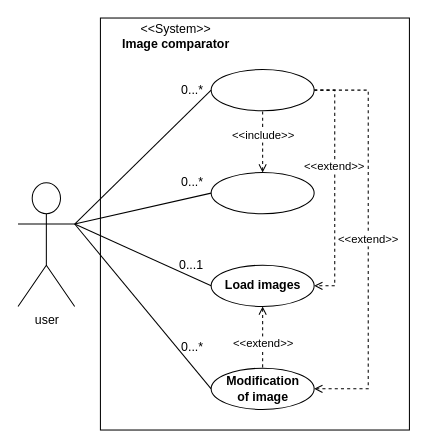
This 427x448 diagram has some shape labels left out. The shapes that lost their labels are listed below. From the top down, each one's centre as x and y in pixels, then its label:
At (x=262, y=89): "Read metrics".
At (x=262, y=192): "Add plugins (metrics)".
